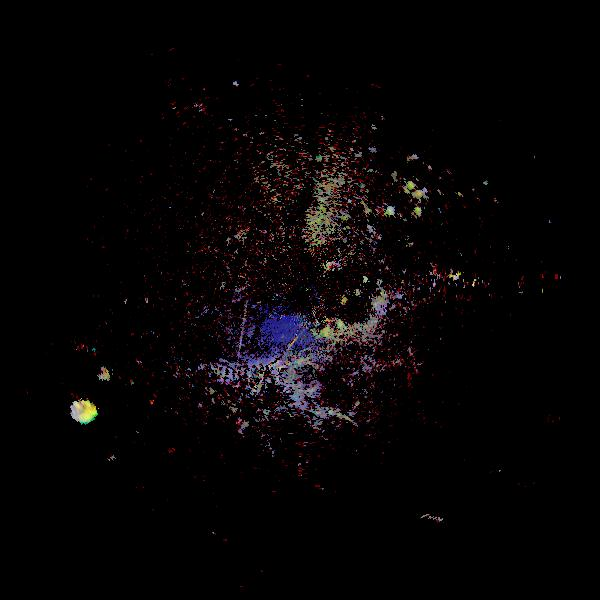roost: (62, 386, 113, 437)
